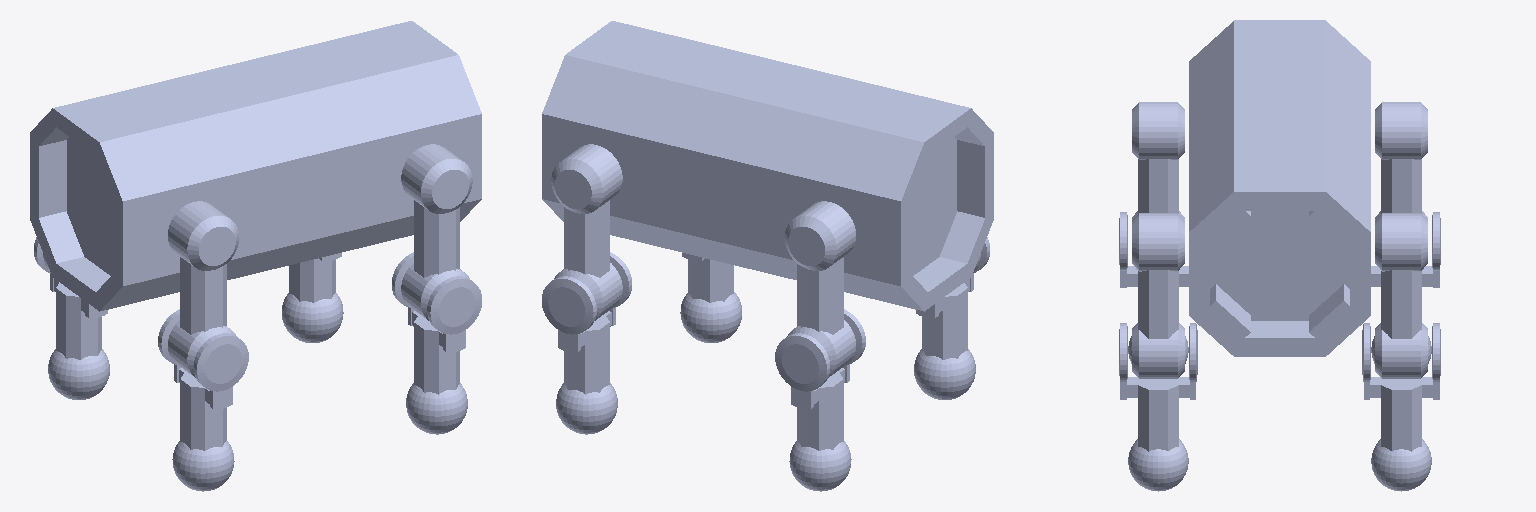
The robot description file, URDF, robot "doggo_walker":
<?xml version="1.0" ?>
<!-- =================================================================================== -->
<!-- |    This document was autogenerated by xacro from bot.xacro                      | -->
<!-- |    EDITING THIS FILE BY HAND IS NOT RECOMMENDED                                 | -->
<!-- =================================================================================== -->
<robot name="doggo_walker">
  <link name="base_link">
    <inertial>
      <origin rpy="0 0 0" xyz="0 0 0"/>
      <mass value="1.4"/>
      <inertia ixx="0.93333333333333322e-3" ixy="0" ixz="0" iyy="0.7728466684691111e-3" iyz="0" izz="0.7728466684691111e-3"/>
    </inertial>
    <visual>
      <origin rpy="0 0 0" xyz="0 0 0"/>
      <geometry>
        <mesh filename="package://quad_walker/mesh/stl/body.stl"/>
      </geometry>
      <material name="black">
        <color rgba="0.79216 0.81961 0.93333 1"/>
      </material>
    </visual>
    <collision>
      <origin rpy="0 0 0" xyz="0 0 0"/>
      <geometry>
        <mesh filename="package://quad_walker/mesh/stl/body.stl"/>
      </geometry>
    </collision>
  </link>
  <!-- ##################################################################### -->
  <joint name="FRFJ" type="revolute">
    <origin rpy="0 0 0" xyz="0.13 -0.12 0"/>
    <parent link="base_link"/>
    <child link="front_right_femur"/>
    <axis xyz="0 1 0"/>
    <limit effort="30" lower="-1.4" upper="1.4" velocity="7.0"/>
  </joint>
  <link name="front_right_femur">
    <inertial>
      <origin rpy="0 1.571 0" xyz="0 0 -0.055"/>
      <mass value="0.4"/>
      <inertia ixx="0.26666666666666666e-3" ixy="0" ixz="0" iyy="1.3500407131234775e-3" iyz="0" izz="1.3500407131234775e-3"/>
    </inertial>
    <visual>
      <origin rpy="0 0 1.571" xyz="0 0 -0.055"/>
      <geometry>
        <mesh filename="package://quad_walker/mesh/stl/femur.stl"/>
      </geometry>
      <material name="black">
        <color rgba="0.79216 0.81961 0.93333 1"/>
      </material>
    </visual>
    <collision>
      <origin rpy="0 0 1.571" xyz="0 0 -0.055"/>
      <geometry>
        <mesh filename="package://quad_walker/mesh/stl/femur.stl"/>
      </geometry>
    </collision>
  </link>
  <!-- ##################################################################### -->
  <joint name="FLFJ" type="revolute">
    <origin rpy="0 0 0" xyz="0.13 0.12 0"/>
    <parent link="base_link"/>
    <child link="front_left_femur"/>
    <axis xyz="0 1 0"/>
    <limit effort="30" lower="-1.4" upper="1.4" velocity="7.0"/>
  </joint>
  <link name="front_left_femur">
    <inertial>
      <origin rpy="0 1.571 0" xyz="0 0 -0.055"/>
      <mass value="0.4"/>
      <inertia ixx="0.26666666666666666e-3" ixy="0" ixz="0" iyy="1.3500407131234775e-3" iyz="0" izz="1.3500407131234775e-3"/>
    </inertial>
    <visual>
      <origin rpy="0 0 1.571" xyz="0 0 -0.055"/>
      <geometry>
        <mesh filename="package://quad_walker/mesh/stl/femur.stl"/>
      </geometry>
      <material name="black">
        <color rgba="0.79216 0.81961 0.93333 1"/>
      </material>
    </visual>
    <collision>
      <origin rpy="0 0 1.571" xyz="0 0 -0.055"/>
      <geometry>
        <mesh filename="package://quad_walker/mesh/stl/femur.stl"/>
      </geometry>
    </collision>
  </link>
  <!-- ##################################################################### -->
  <joint name="RRFJ" type="revolute">
    <origin rpy="0 0 0" xyz="-0.13 -0.12 0"/>
    <parent link="base_link"/>
    <child link="rear_right_femur"/>
    <axis xyz="0 1 0"/>
    <limit effort="30" lower="-1.4" upper="1.4" velocity="7.0"/>
  </joint>
  <link name="rear_right_femur">
    <inertial>
      <origin rpy="0 1.571 0" xyz="0 0 -0.055"/>
      <mass value="0.4"/>
      <inertia ixx="0.26666666666666666e-3" ixy="0" ixz="0" iyy="1.3500407131234775e-3" iyz="0" izz="1.3500407131234775e-3"/>
    </inertial>
    <visual>
      <origin rpy="0 0 1.571" xyz="0 0 -0.055"/>
      <geometry>
        <mesh filename="package://quad_walker/mesh/stl/femur.stl"/>
      </geometry>
      <material name="black">
        <color rgba="0.79216 0.81961 0.93333 1"/>
      </material>
    </visual>
    <collision>
      <origin rpy="0 0 1.571" xyz="0 0 -0.055"/>
      <geometry>
        <mesh filename="package://quad_walker/mesh/stl/femur.stl"/>
      </geometry>
    </collision>
  </link>
  <!-- ##################################################################### -->
  <joint name="RLFJ" type="revolute">
    <origin rpy="0 0 0" xyz="-0.13 0.12 0"/>
    <parent link="base_link"/>
    <child link="rear_left_femur"/>
    <axis xyz="0 1 0"/>
    <limit effort="30" lower="-1.4" upper="1.4" velocity="7.0"/>
  </joint>
  <link name="rear_left_femur">
    <inertial>
      <origin rpy="0 1.571 0" xyz="0 0 -0.055"/>
      <mass value="0.4"/>
      <inertia ixx="0.26666666666666666e-3" ixy="0" ixz="0" iyy="1.3500407131234775e-3" iyz="0" izz="1.3500407131234775e-3"/>
    </inertial>
    <visual>
      <origin rpy="0 0 1.571" xyz="0 0 -0.055"/>
      <geometry>
        <mesh filename="package://quad_walker/mesh/stl/femur.stl"/>
      </geometry>
      <material name="black">
        <color rgba="0.79216 0.81961 0.93333 1"/>
      </material>
    </visual>
    <collision>
      <origin rpy="0 0 1.571" xyz="0 0 -0.055"/>
      <geometry>
        <mesh filename="package://quad_walker/mesh/stl/femur.stl"/>
      </geometry>
    </collision>
  </link>
  <!-- #########################################################################3
################################################################################
############################################################################### -->
  <!-- ##################################################################### -->
  <joint name="FRLLJ" type="revolute">
    <origin rpy="0 0 0" xyz="0 0 -0.115"/>
    <parent link="front_right_femur"/>
    <child link="front_right_lower_leg"/>
    <axis xyz="0 1 0"/>
    <limit effort="30" lower="-1.4" upper="1.4" velocity="7.0"/>
  </joint>
  <link name="front_right_lower_leg">
    <inertial>
      <origin rpy="0 1.571 0" xyz="0 0 -0.075"/>
      <mass value="0.4"/>
      <inertia ixx="0.40013864055798504e-3" ixy="0" ixz="0" iyy="0.6219198715954392e-3" iyz="0" izz="0.7822468894428255e-3"/>
    </inertial>
    <visual>
      <origin rpy="0 0 1.571" xyz="0 0 -0.075"/>
      <geometry>
        <mesh filename="package://quad_walker/mesh/stl/lower_leg.stl"/>
      </geometry>
      <material name="black">
        <color rgba="0.79216 0.81961 0.93333 1"/>
      </material>
    </visual>
    <collision>
      <origin rpy="0 0 1.571" xyz="0 0 -0.075"/>
      <geometry>
        <mesh filename="package://quad_walker/mesh/stl/lower_leg.stl"/>
      </geometry>
    </collision>
  </link>
  <!-- ##################################################################### -->
  <joint name="FLLLJ" type="revolute">
    <origin rpy="0 0 0" xyz="0 0 -0.115"/>
    <parent link="front_left_femur"/>
    <child link="front_left_lower_leg"/>
    <axis xyz="0 1 0"/>
    <limit effort="30" lower="-1.4" upper="1.4" velocity="7.0"/>
  </joint>
  <link name="front_left_lower_leg">
    <inertial>
      <origin rpy="0 1.571 0" xyz="0 0 -0.075"/>
      <mass value="0.4"/>
      <inertia ixx="0.40013864055798504e-3" ixy="0" ixz="0" iyy="0.6219198715954392e-3" iyz="0" izz="0.7822468894428255e-3"/>
    </inertial>
    <visual>
      <origin rpy="0 0 1.571" xyz="0 0 -0.075"/>
      <geometry>
        <mesh filename="package://quad_walker/mesh/stl/lower_leg.stl"/>
      </geometry>
      <material name="black">
        <color rgba="0.79216 0.81961 0.93333 1"/>
      </material>
    </visual>
    <collision>
      <origin rpy="0 0 1.571" xyz="0 0 -0.075"/>
      <geometry>
        <mesh filename="package://quad_walker/mesh/stl/lower_leg.stl"/>
      </geometry>
    </collision>
  </link>
  <!-- ##################################################################### -->
  <joint name="RRLLJ" type="revolute">
    <origin rpy="0 0 0" xyz="0 0 -0.115"/>
    <parent link="rear_right_femur"/>
    <child link="rear_right_lower_leg"/>
    <axis xyz="0 1 0"/>
    <limit effort="30" lower="-1.4" upper="1.4" velocity="7.0"/>
  </joint>
  <link name="rear_right_lower_leg">
    <inertial>
      <origin rpy="0 1.571 0" xyz="0 0 -0.075"/>
      <mass value="0.4"/>
      <inertia ixx="0.40013864055798504e-3" ixy="0" ixz="0" iyy="0.6219198715954392e-3" iyz="0" izz="0.7822468894428255e-3"/>
    </inertial>
    <visual>
      <origin rpy="0 0 1.571" xyz="0 0 -0.075"/>
      <geometry>
        <mesh filename="package://quad_walker/mesh/stl/lower_leg.stl"/>
      </geometry>
      <material name="black">
        <color rgba="0.79216 0.81961 0.93333 1"/>
      </material>
    </visual>
    <collision>
      <origin rpy="0 0 1.571" xyz="0 0 -0.075"/>
      <geometry>
        <mesh filename="package://quad_walker/mesh/stl/lower_leg.stl"/>
      </geometry>
    </collision>
  </link>
  <!-- ##################################################################### -->
  <joint name="RLLLJ" type="revolute">
    <origin rpy="0 0 0" xyz="0 0 -0.115"/>
    <parent link="rear_left_femur"/>
    <child link="rear_left_lower_leg"/>
    <axis xyz="0 1 0"/>
    <limit effort="30" lower="-1.4" upper="1.4" velocity="7.0"/>
  </joint>
  <link name="rear_left_lower_leg">
    <inertial>
      <origin rpy="0 1.571 0" xyz="0 0 -0.075"/>
      <mass value="0.4"/>
      <inertia ixx="0.40013864055798504e-3" ixy="0" ixz="0" iyy="0.6219198715954392e-3" iyz="0" izz="0.7822468894428255e-3"/>
    </inertial>
    <visual>
      <origin rpy="0 0 1.571" xyz="0 0 -0.075"/>
      <geometry>
        <mesh filename="package://quad_walker/mesh/stl/lower_leg.stl"/>
      </geometry>
      <material name="black">
        <color rgba="0.79216 0.81961 0.93333 1"/>
      </material>
    </visual>
    <collision>
      <origin rpy="0 0 1.571" xyz="0 0 -0.075"/>
      <geometry>
        <mesh filename="package://quad_walker/mesh/stl/lower_leg.stl"/>
      </geometry>
    </collision>
  </link>
  <!-- ############################################################################# -->
  <joint name="FRCS" type="fixed">
    <origin rpy="0 0 0" xyz="0 0 -0.12"/>
    <parent link="front_right_lower_leg"/>
    <child link="front_right_contact_sensor"/>
  </joint>
  <link name="front_right_contact_sensor">
    <inertial>
      <origin rpy="0 0 0" xyz="0 0 0"/>
      <mass value="0.1"/>
      <inertia ixx="3.600000000000001e-05" ixy="0" ixz="0" iyy="3.600000000000001e-05" iyz="0" izz="3.600000000000001e-05"/>
    </inertial>
    <visual>
      <origin rpy="0 0 0" xyz="0 0 0"/>
      <geometry>
        <sphere radius="0.03"/>
      </geometry>
      <material name="black">
        <color rgba="0.79216 0.81961 0.93333 1"/>
      </material>
    </visual>
    <collision>
      <origin rpy="0 0 0" xyz="0 0 0"/>
      <geometry>
        <sphere radius="0.03"/>
      </geometry>
    </collision>
  </link>
  <joint name="FLCS" type="fixed">
    <origin rpy="0 0 0" xyz="0 0 -0.12"/>
    <parent link="front_left_lower_leg"/>
    <child link="front_left_contact_sensor"/>
  </joint>
  <link name="front_left_contact_sensor">
    <inertial>
      <origin rpy="0 0 0" xyz="0 0 0"/>
      <mass value="0.1"/>
      <inertia ixx="3.600000000000001e-05" ixy="0" ixz="0" iyy="3.600000000000001e-05" iyz="0" izz="3.600000000000001e-05"/>
    </inertial>
    <visual>
      <origin rpy="0 0 0" xyz="0 0 0"/>
      <geometry>
        <sphere radius="0.03"/>
      </geometry>
      <material name="black">
        <color rgba="0.79216 0.81961 0.93333 1"/>
      </material>
    </visual>
    <collision>
      <origin rpy="0 0 0" xyz="0 0 0"/>
      <geometry>
        <sphere radius="0.03"/>
      </geometry>
    </collision>
  </link>
  <joint name="RRCS" type="fixed">
    <origin rpy="0 0 0" xyz="0 0 -0.12"/>
    <parent link="rear_right_lower_leg"/>
    <child link="rear_right_contact_sensor"/>
  </joint>
  <link name="rear_right_contact_sensor">
    <inertial>
      <origin rpy="0 0 0" xyz="0 0 0"/>
      <mass value="0.1"/>
      <inertia ixx="3.600000000000001e-05" ixy="0" ixz="0" iyy="3.600000000000001e-05" iyz="0" izz="3.600000000000001e-05"/>
    </inertial>
    <visual>
      <origin rpy="0 0 0" xyz="0 0 0"/>
      <geometry>
        <sphere radius="0.03"/>
      </geometry>
      <material name="black">
        <color rgba="0.79216 0.81961 0.93333 1"/>
      </material>
    </visual>
    <collision>
      <origin rpy="0 0 0" xyz="0 0 0"/>
      <geometry>
        <sphere radius="0.03"/>
      </geometry>
    </collision>
  </link>
  <joint name="RLCS" type="fixed">
    <origin rpy="0 0 0" xyz="0 0 -0.12"/>
    <parent link="rear_left_lower_leg"/>
    <child link="rear_left_contact_sensor"/>
  </joint>
  <link name="rear_left_contact_sensor">
    <inertial>
      <origin rpy="0 0 0" xyz="0 0 0"/>
      <mass value="0.1"/>
      <inertia ixx="3.600000000000001e-05" ixy="0" ixz="0" iyy="3.600000000000001e-05" iyz="0" izz="3.600000000000001e-05"/>
    </inertial>
    <visual>
      <origin rpy="0 0 0" xyz="0 0 0"/>
      <geometry>
        <sphere radius="0.03"/>
      </geometry>
      <material name="black">
        <color rgba="0.79216 0.81961 0.93333 1"/>
      </material>
    </visual>
    <collision>
      <origin rpy="0 0 0" xyz="0 0 0"/>
      <geometry>
        <sphere radius="0.03"/>
      </geometry>
    </collision>
  </link>
  <!-- #########################################################################################
##############################################################################################
#####################################  Gazebo Properties #####################################
##############################################################################################
############################################################################################## -->
  <gazebo reference="base_link">
    <material>Gazebo/Orange</material>
    <selfCollide>true</selfCollide>
  </gazebo>
  <gazebo reference="front_right_femur">
    <selfCollide>true</selfCollide>
    <material>Gazebo/Blue</material>
  </gazebo>
  <gazebo reference="front_left_femur">
    <selfCollide>true</selfCollide>
    <material>Gazebo/Blue</material>
  </gazebo>
  <gazebo reference="rear_right_femur">
    <selfCollide>true</selfCollide>
    <material>Gazebo/Red</material>
  </gazebo>
  <gazebo reference="rear_left_femur">
    <selfCollide>true</selfCollide>
    <material>Gazebo/Red</material>
  </gazebo>
  <gazebo reference="front_right_lower_leg">
    <selfCollide>true</selfCollide>
    <material>Gazebo/Red</material>
  </gazebo>
  <gazebo reference="front_left_lower_leg">
    <selfCollide>true</selfCollide>
    <material>Gazebo/Red</material>
  </gazebo>
  <gazebo reference="rear_right_lower_leg">
    <selfCollide>true</selfCollide>
    <material>Gazebo/Red</material>
  </gazebo>
  <gazebo reference="rear_left_lower_leg">
    <selfCollide>true</selfCollide>
    <material>Gazebo/Red</material>
  </gazebo>
  <!-- <gazebo reference="right_foot">
       <material>Gazebo/Black</material>
       <kp>100000.0</kp>
        <kd>100000.0</kd>
        <mu1>2000.0</mu1>
        <mu2>2000.0</mu2>
      <sensor name="right_contactsensor_sensor" type="contact">
          <always_on>true</always_on>
          <contact>
            <collision>right_shin_fixed_joint_lump__right_foot_collision_1</collision>
          </contact>
          <plugin name="bumper0_plugin" filename="libgazebo_ros_bumper.so">
            <bumperTopicName>right_bottom_contactsensor_state</bumperTopicName>
            <frameName>right_foot</frameName>
          </plugin>
        </sensor>

    </gazebo>
      <gazebo reference="left_foot">
       <material>Gazebo/Black</material>
       <kp>100000.0</kp>
        <kd>100000.0</kd>
        <mu1>2000.0</mu1>
        <mu2>2000.0</mu2>
        <sensor name="left_contactsensor_sensor" type="contact">
          <always_on>true</always_on>
          <contact>
            <collision>left_shin_fixed_joint_lump__left_foot_collision_1</collision>
          </contact>
          <plugin name="bumper0_plugin" filename="libgazebo_ros_bumper.so">
            <bumperTopicName>left_bottom_contactsensor_state</bumperTopicName>
            <frameName>left_foot</frameName>
          </plugin>
        </sensor>
    </gazebo> -->
  <gazebo>
    <plugin filename="libgazebo_ros_imu.so" name="gazebo_ros_imu_controller">
      <robotNamespace/>
      <topicName>imu/data</topicName>
      <serviceName>imu/service</serviceName>
      <bodyName>base_link</bodyName>
      <gaussianNoise>0</gaussianNoise>
      <rpyOffsets>0 0 0</rpyOffsets>
      <alwaysOn>true</alwaysOn>
      <gaussianNoise>0</gaussianNoise>
    </plugin>
  </gazebo>
  <gazebo>
    <plugin filename="libgazebo_ros_p3d.so" name="p3d_base_controller">
      <alwaysOn>true</alwaysOn>
      <bodyName>base_link</bodyName>
      <topicName>odom</topicName>
      <gaussianNoise>0.01</gaussianNoise>
      <frameName>world</frameName>
      <xyzOffsets>0 0 0</xyzOffsets>
      <rpyOffsets>0 0 0</rpyOffsets>
    </plugin>
  </gazebo>
  <gazebo>
    <plugin filename="libgazebo_ros_control.so" name="gazebo_ros_control">
      <robotSimType>gazebo_ros_control/DefaultRobotHWSim</robotSimType>
    </plugin>
  </gazebo>
  <transmission name="tran1">
    <type>transmission_interface/SimpleTransmission</type>
    <joint name="FRFJ">
      <hardwareInterface>hardware_interface/EffortJointInterface</hardwareInterface>
    </joint>
    <actuator name="motor1">
      <hardwareInterface>hardware_interface/EffortJointInterface</hardwareInterface>
      <mechanicalReduction>1</mechanicalReduction>
    </actuator>
  </transmission>
  <transmission name="tran2">
    <type>transmission_interface/SimpleTransmission</type>
    <joint name="FLFJ">
      <hardwareInterface>hardware_interface/EffortJointInterface</hardwareInterface>
    </joint>
    <actuator name="motor2">
      <hardwareInterface>hardware_interface/EffortJointInterface</hardwareInterface>
      <mechanicalReduction>1</mechanicalReduction>
    </actuator>
  </transmission>
  <transmission name="tran3">
    <type>transmission_interface/SimpleTransmission</type>
    <joint name="RRFJ">
      <hardwareInterface>hardware_interface/EffortJointInterface</hardwareInterface>
    </joint>
    <actuator name="motor3">
      <hardwareInterface>hardware_interface/EffortJointInterface</hardwareInterface>
      <mechanicalReduction>1</mechanicalReduction>
    </actuator>
  </transmission>
  <transmission name="tran4">
    <type>transmission_interface/SimpleTransmission</type>
    <joint name="RLFJ">
      <hardwareInterface>hardware_interface/EffortJointInterface</hardwareInterface>
    </joint>
    <actuator name="motor4">
      <hardwareInterface>hardware_interface/EffortJointInterface</hardwareInterface>
      <mechanicalReduction>1</mechanicalReduction>
    </actuator>
  </transmission>
  <transmission name="tran5">
    <type>transmission_interface/SimpleTransmission</type>
    <joint name="FRLLJ">
      <hardwareInterface>hardware_interface/EffortJointInterface</hardwareInterface>
    </joint>
    <actuator name="motor5">
      <hardwareInterface>hardware_interface/EffortJointInterface</hardwareInterface>
      <mechanicalReduction>1</mechanicalReduction>
    </actuator>
  </transmission>
  <transmission name="tran6">
    <type>transmission_interface/SimpleTransmission</type>
    <joint name="FLLLJ">
      <hardwareInterface>hardware_interface/EffortJointInterface</hardwareInterface>
    </joint>
    <actuator name="motor6">
      <hardwareInterface>hardware_interface/EffortJointInterface</hardwareInterface>
      <mechanicalReduction>1</mechanicalReduction>
    </actuator>
  </transmission>
  <transmission name="tran7">
    <type>transmission_interface/SimpleTransmission</type>
    <joint name="RRLLJ">
      <hardwareInterface>hardware_interface/EffortJointInterface</hardwareInterface>
    </joint>
    <actuator name="motor7">
      <hardwareInterface>hardware_interface/EffortJointInterface</hardwareInterface>
      <mechanicalReduction>1</mechanicalReduction>
    </actuator>
  </transmission>
  <transmission name="tran8">
    <type>transmission_interface/SimpleTransmission</type>
    <joint name="RLLLJ">
      <hardwareInterface>hardware_interface/EffortJointInterface</hardwareInterface>
    </joint>
    <actuator name="motor8">
      <hardwareInterface>hardware_interface/EffortJointInterface</hardwareInterface>
      <mechanicalReduction>1</mechanicalReduction>
    </actuator>
  </transmission>
</robot>

--- What the picture shows (computed from the rendered views, not written in the file) ---
The picture shows the robot from 3 angles, left to right: view 1: azimuth 30°, elevation 25°; view 2: azimuth 150°, elevation 25°; view 3: azimuth 270°, elevation 25°; orthographic projection.
Model doggo_walker with 13 links and 12 joints (8 revolute, 4 fixed), rooted at base_link, posed every joint at zero.
Visible links, largest first — view 1: base_link, rear_right_femur, front_right_femur, rear_right_lower_leg, front_right_lower_leg, rear_left_lower_leg, front_right_contact_sensor, rear_left_contact_sensor, rear_right_contact_sensor, front_left_contact_sensor, front_left_lower_leg; view 2: base_link, rear_left_femur, front_left_femur, rear_left_lower_leg, front_left_lower_leg, rear_right_lower_leg, front_left_contact_sensor, rear_right_contact_sensor, rear_left_contact_sensor, front_right_contact_sensor, front_right_lower_leg; view 3: base_link, front_right_femur, front_left_femur, rear_right_femur, rear_left_femur, front_right_lower_leg, front_left_lower_leg, front_right_contact_sensor, front_left_contact_sensor, rear_right_lower_leg, rear_left_lower_leg.
Boxes of the visible links, x1,y1,x2,y2 form: base_link: [30, 21, 481, 311]; rear_right_femur: [168, 201, 238, 377]; front_right_femur: [401, 144, 472, 320]; rear_right_lower_leg: [158, 309, 248, 450]; front_right_lower_leg: [392, 252, 481, 394]; rear_left_lower_leg: [34, 237, 107, 359]; front_right_contact_sensor: [406, 383, 467, 434]; rear_left_contact_sensor: [48, 349, 109, 399]; rear_right_contact_sensor: [172, 441, 234, 491]; front_left_contact_sensor: [282, 293, 343, 342]; front_left_lower_leg: [289, 253, 341, 302]; base_link: [542, 21, 993, 311]; rear_left_femur: [785, 201, 855, 377]; front_left_femur: [551, 144, 622, 320]; rear_left_lower_leg: [775, 309, 865, 450]; front_left_lower_leg: [542, 252, 631, 394]; rear_right_lower_leg: [916, 237, 989, 359]; front_left_contact_sensor: [556, 383, 617, 434]; rear_right_contact_sensor: [914, 349, 975, 399]; rear_left_contact_sensor: [789, 441, 851, 491]; front_right_contact_sensor: [680, 292, 741, 342]; front_right_lower_leg: [682, 253, 733, 302]; base_link: [1189, 20, 1370, 356]; front_right_femur: [1132, 213, 1184, 378]; front_left_femur: [1375, 213, 1427, 378]; rear_right_femur: [1132, 102, 1184, 220]; rear_left_femur: [1375, 102, 1427, 220]; front_right_lower_leg: [1119, 323, 1197, 451]; front_left_lower_leg: [1362, 323, 1440, 451]; front_right_contact_sensor: [1128, 439, 1188, 491]; front_left_contact_sensor: [1371, 439, 1431, 491]; rear_right_lower_leg: [1119, 212, 1188, 287]; rear_left_lower_leg: [1371, 212, 1440, 287].
Bounding box of the posed robot: 0.4 × 0.3176 × 0.355 m (x, y, z).
9 mesh visuals loaded from 3 distinct referenced files (3 binary STL).